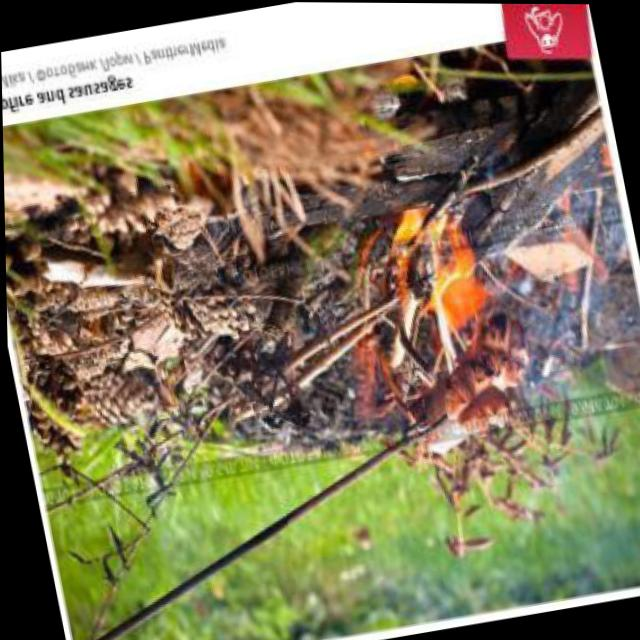Fire: (3, 194, 513, 525), (453, 105, 640, 449)
